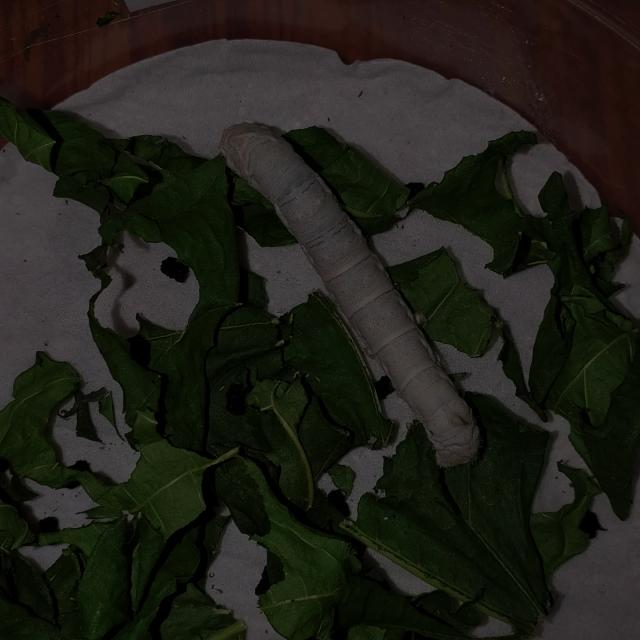Healthy: (204, 100, 516, 490)
